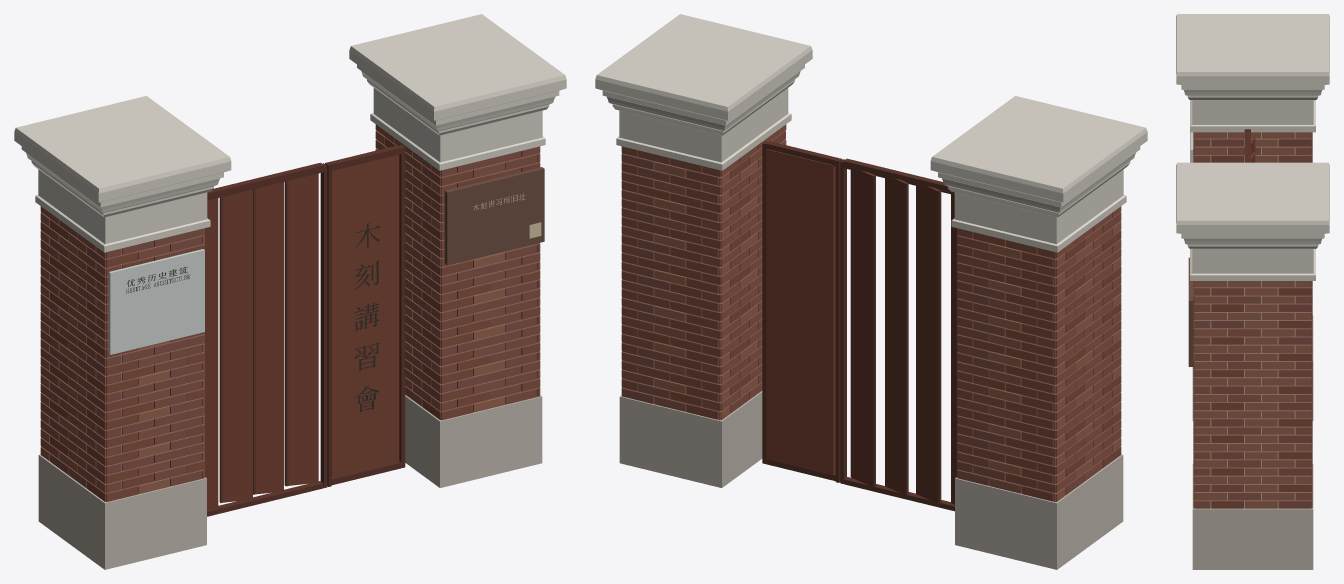
Rendered from hongkou-changchun-319-woodcut-workshop-gate-raw.glb.
The picture shows the model from 3 angles, left to right: view 1: azimuth 30°, elevation 25°; view 2: azimuth 150°, elevation 25°; view 3: azimuth 270°, elevation 25°; orthographic projection. The views are drawn at different scales.
Visible parts, largest first — view 1: 长春路319号木刻讲习会旧址院门; view 2: 长春路319号木刻讲习会旧址院门; view 3: 长春路319号木刻讲习会旧址院门.
Part boxes in pixels (x1,y1,x2,y2): 长春路319号木刻讲习会旧址院门: (14,14,566,569); 长春路319号木刻讲习会旧址院门: (595,14,1147,569); 长春路319号木刻讲习会旧址院门: (1176,14,1329,569).
Bounding box in the file's own units: 3.48 × 2.78 × 1.09.
